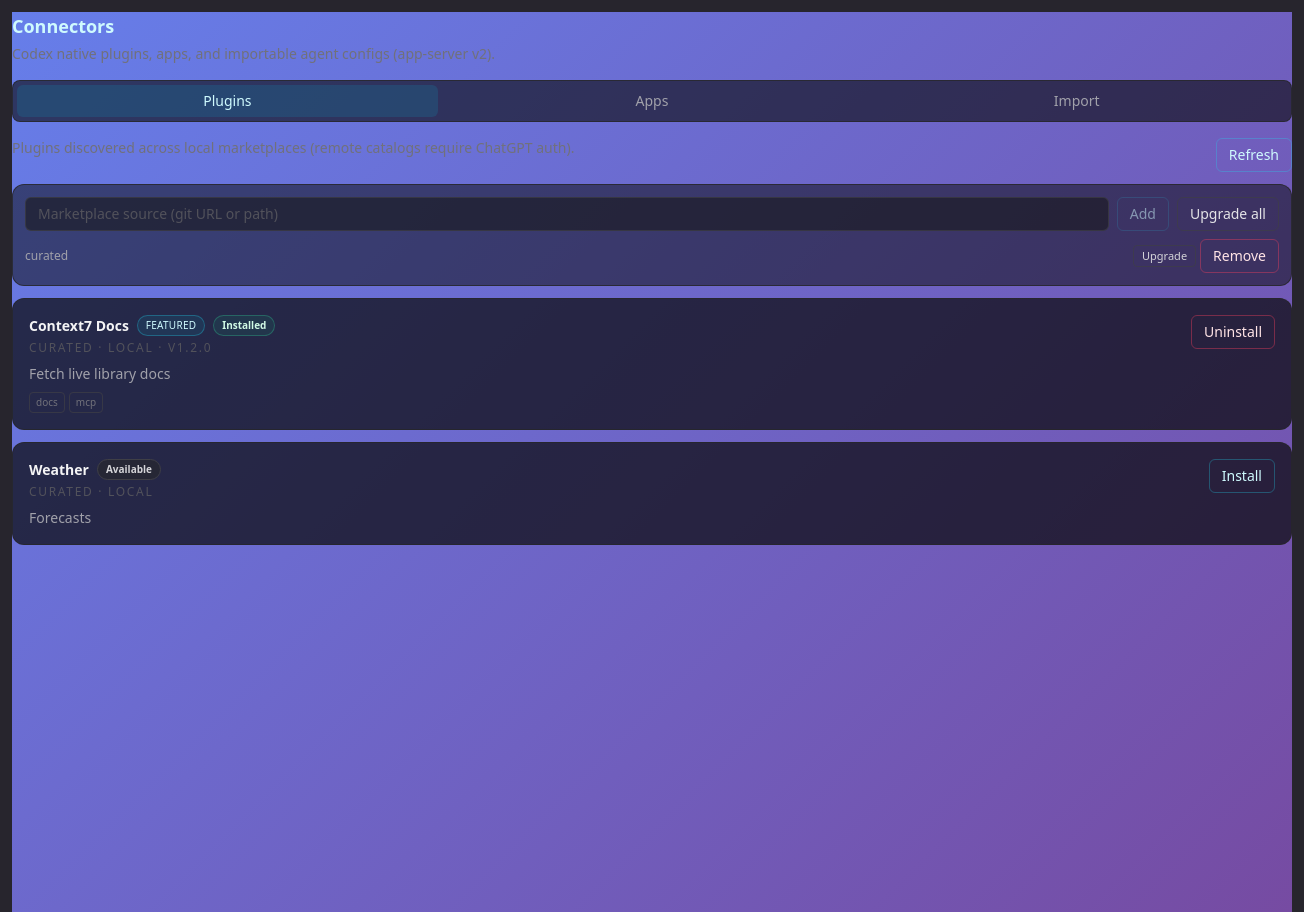
ConnectorsSection › switches to Import sub-tab and shows detected items
This screenshot has width=1304, height=912.
Expected: the text "Context7 Docs" is shown, [29,316,129,336]
Click the button "Import": (1077, 101) [866,85,1287,117]
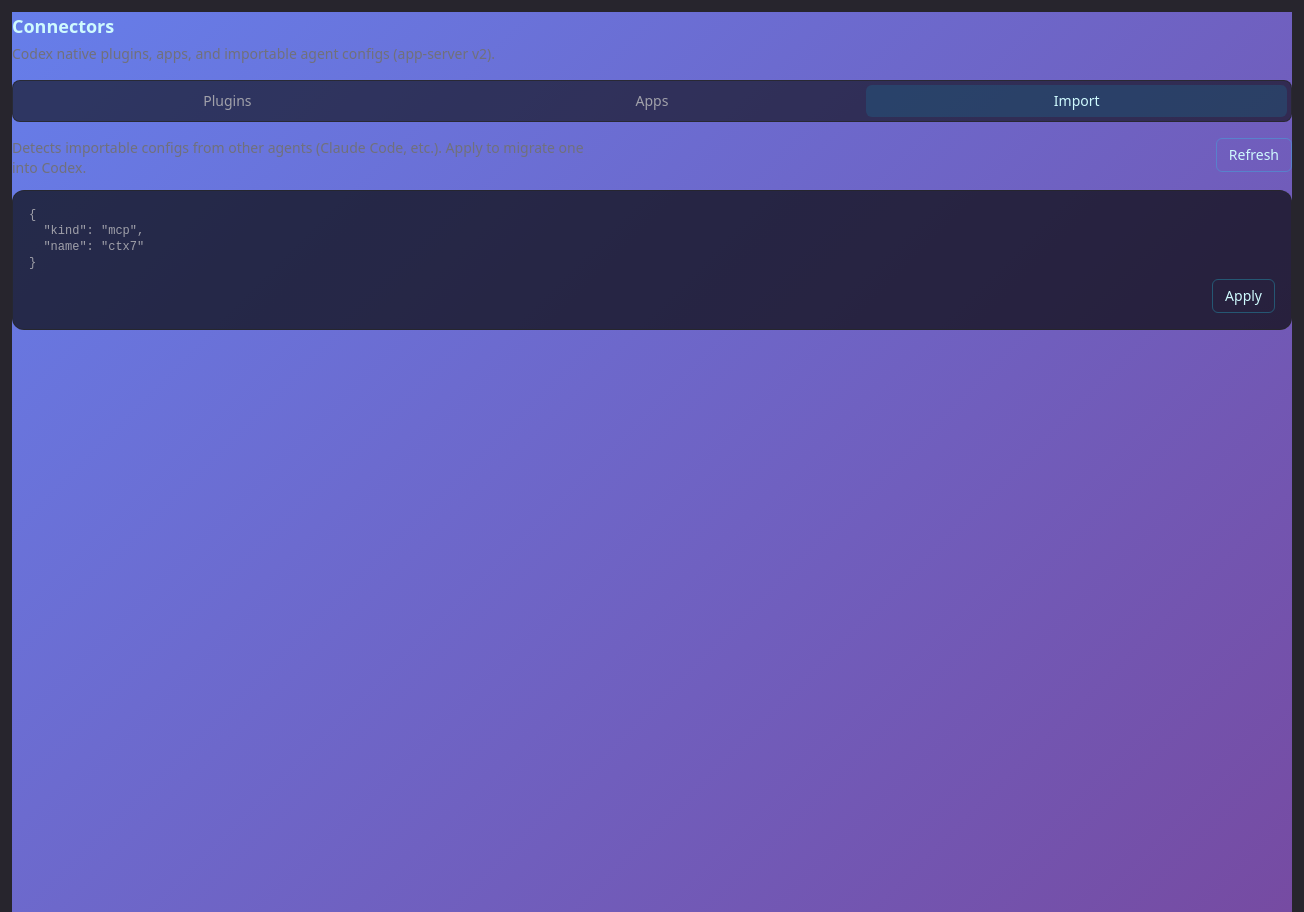
Result: the text "{ \"kind\": \"mcp\", \"name\": \"ctx7\" }" is shown at [29,208,144,270]
